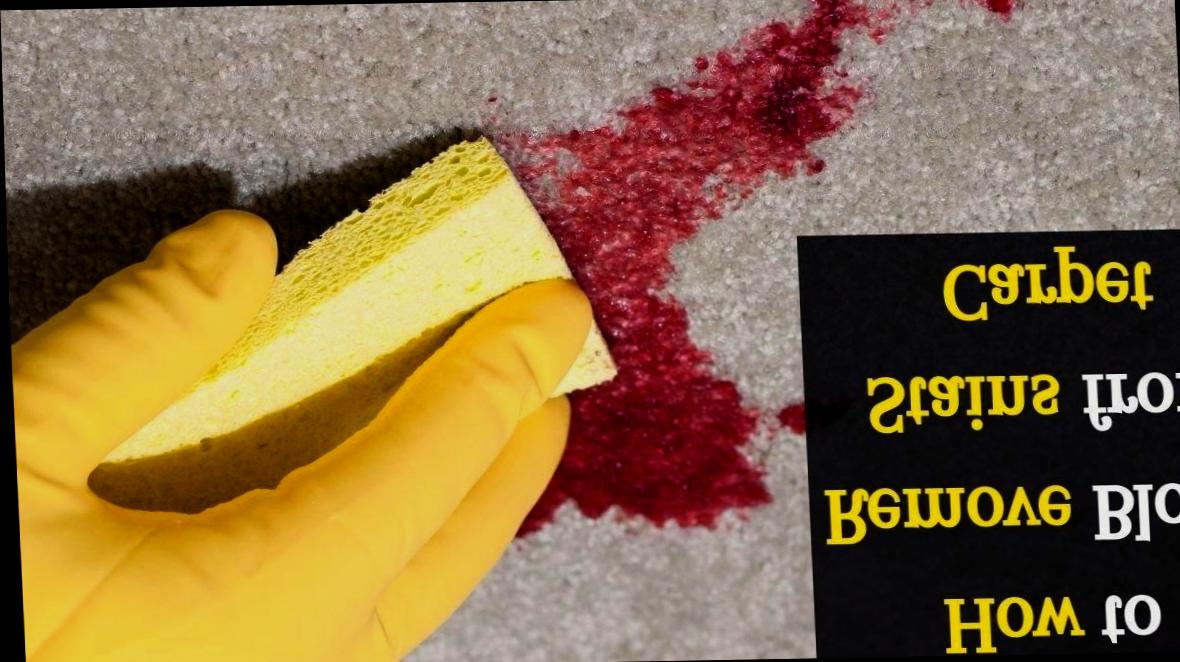Fire: (510, 0, 874, 539), (961, 0, 1016, 24), (774, 403, 803, 437)
